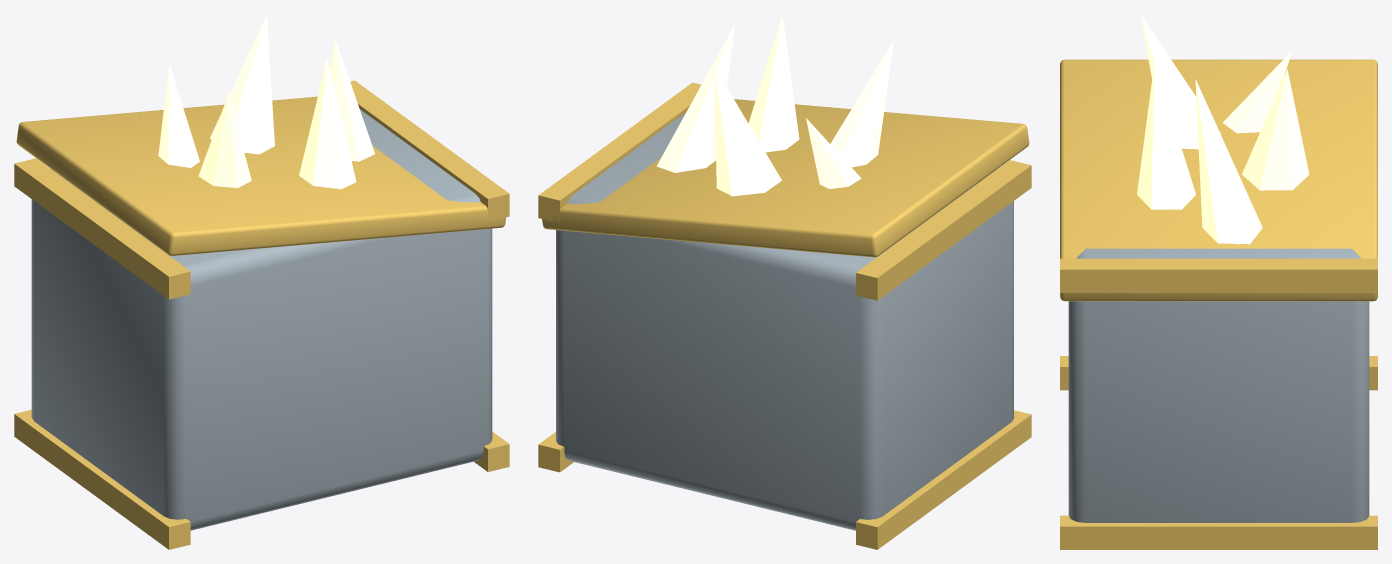
File: CajaChatarra.fbx
3 views of the same model, side by side, from view 1: azimuth 30°, elevation 25°; view 2: azimuth 150°, elevation 25°; view 3: azimuth 270°, elevation 25° (orthographic). The views are drawn at different scales.
Visible parts, largest first — view 1: CajaChatarra, Cristales; view 2: CajaChatarra, Cristales; view 3: CajaChatarra, Cristales.
Part boxes in pixels (x1,y1,x2,y2): CajaChatarra: [14, 80, 509, 549]; Cristales: [158, 14, 374, 189]; CajaChatarra: [538, 82, 1031, 549]; Cristales: [656, 14, 894, 196]; CajaChatarra: [1060, 59, 1377, 549]; Cristales: [1137, 14, 1309, 244].
Size of the model in its own units: 0.94 by 1.08 by 0.74.
